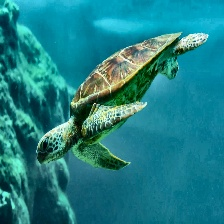seaturtle: (36, 31, 204, 219)
